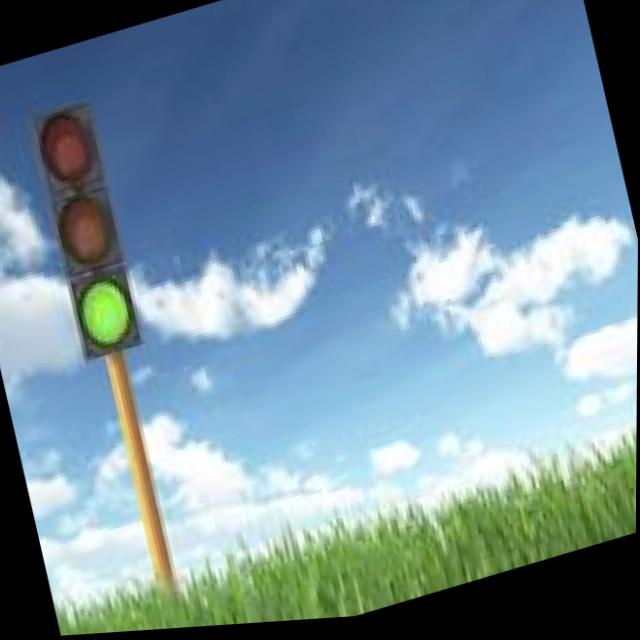green_light: (29, 250, 173, 383)
